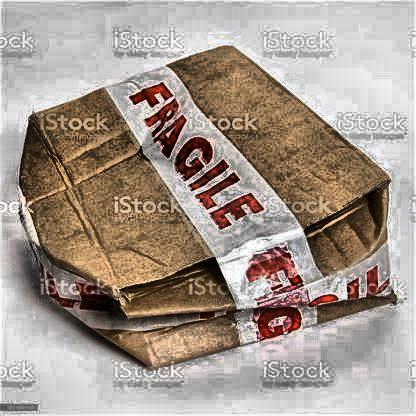defect parcel: (15, 153, 416, 357)
